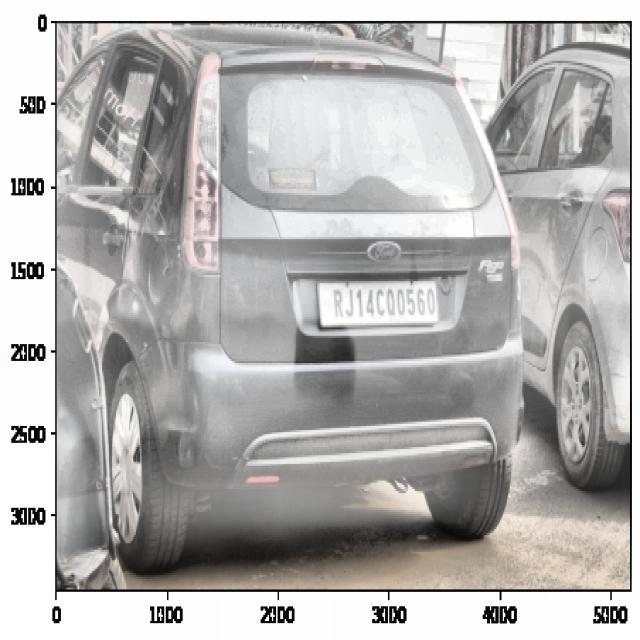license_plate: (326, 279, 440, 328)
